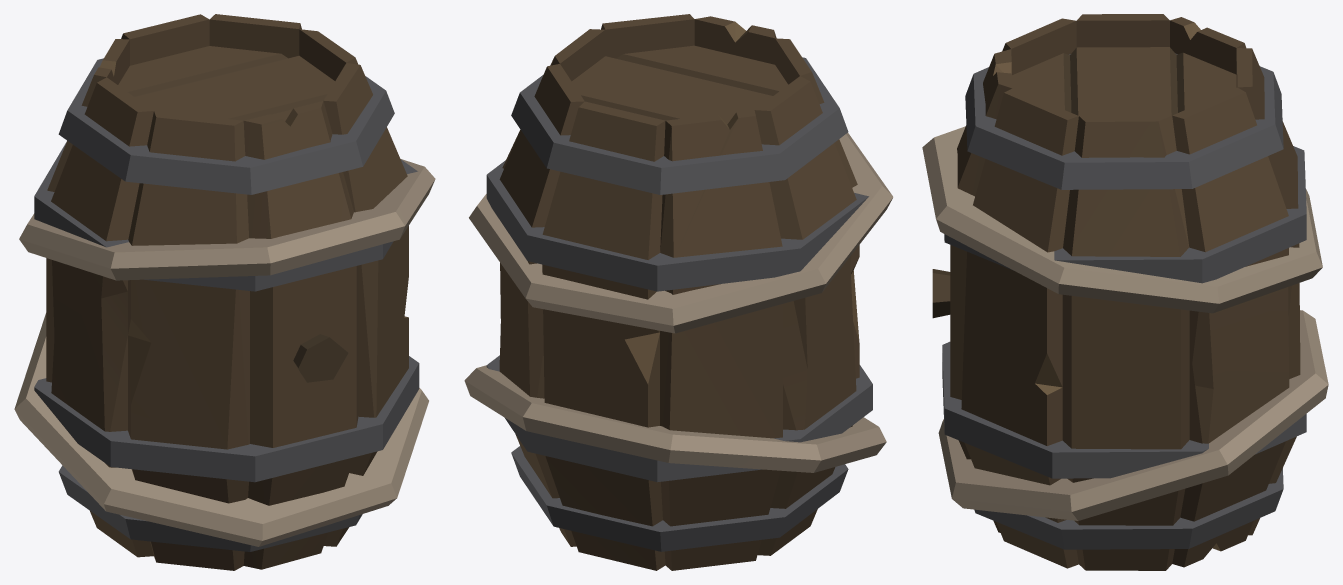
The model's file is Barile_con_fune.fbx.
The picture shows the model from 3 angles, left to right: view 1: azimuth 30°, elevation 25°; view 2: azimuth 150°, elevation 25°; view 3: azimuth 270°, elevation 25°; orthographic projection.
Visible parts, largest first — view 1: SM_Veh_Extra_Barrel_04; view 2: SM_Veh_Extra_Barrel_04; view 3: SM_Veh_Extra_Barrel_04.
Boxes of the visible parts, left/top/right/bottom form: SM_Veh_Extra_Barrel_04: left=14, top=14, right=435, bottom=570; SM_Veh_Extra_Barrel_04: left=464, top=14, right=893, bottom=570; SM_Veh_Extra_Barrel_04: left=922, top=14, right=1328, bottom=570.
Size of the model in its own units: 114 by 137 by 112.
Materials: 1 (1 with a texture image).
